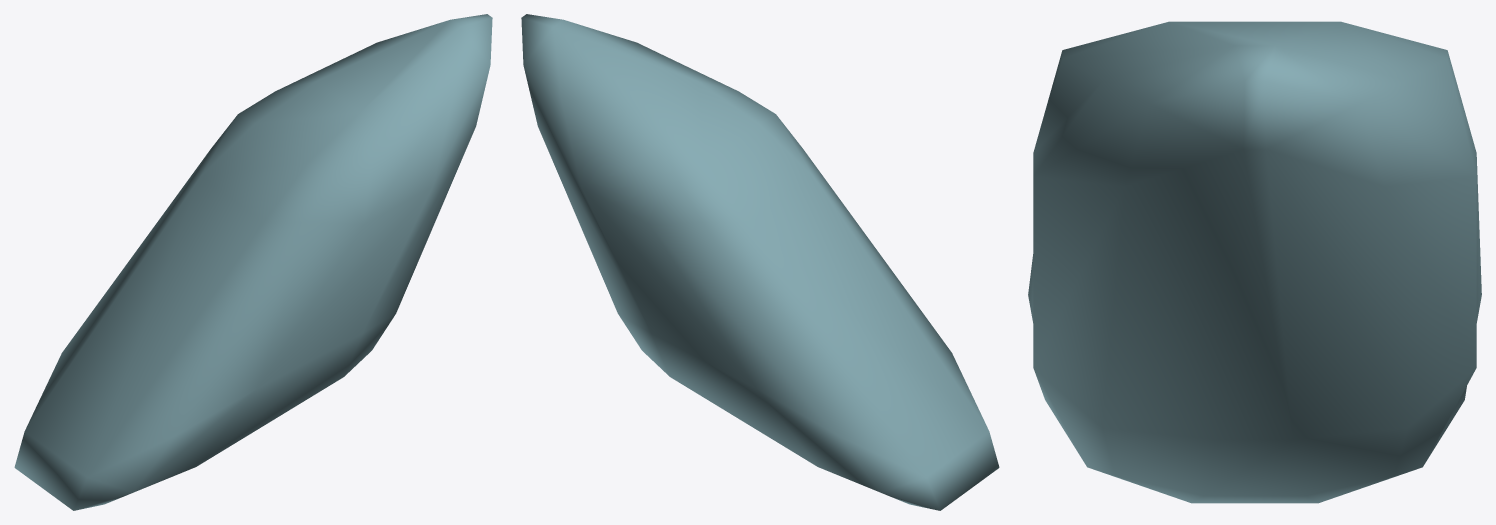
The model's file is searock1.fbx.
3 views of the same model, side by side, from view 1: azimuth 30°, elevation 25°; view 2: azimuth 150°, elevation 25°; view 3: azimuth 270°, elevation 25° (orthographic). The views are drawn at different scales.
Parts seen in each view (by area): view 1: searock1; view 2: searock1; view 3: searock1.
Boxes of the visible parts, <box> form: searock1: <box>14,14,492,510</box>; searock1: <box>521,14,999,510</box>; searock1: <box>1028,21,1481,503</box>.
Size of what is drawn, in the model's own units: 3.69 by 1.63 by 2.91.
